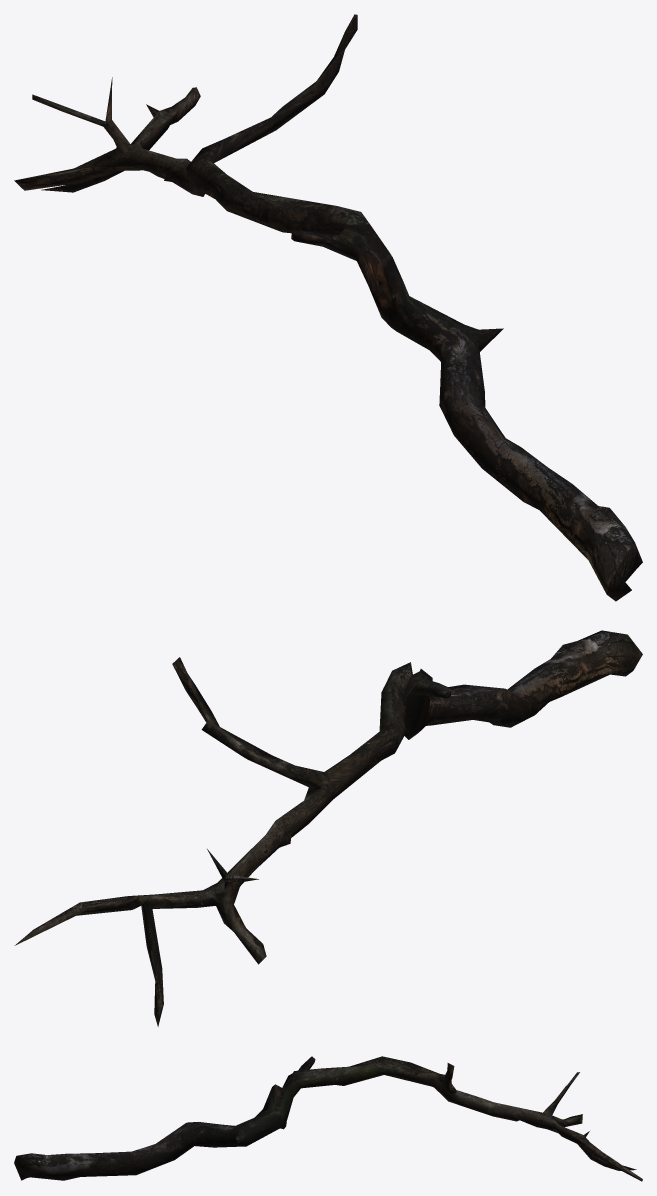
The model's file is pine_branch_a.glb.
3 renders of one model, top to bottom at view 1: azimuth 30°, elevation 25°; view 2: azimuth 150°, elevation 25°; view 3: azimuth 270°, elevation 25°, orthographic. The views are drawn at different scales.
Visible parts, largest first — view 1: pine_branch_a; view 2: pine_branch_a; view 3: pine_branch_a.
Boxes of the visible parts, x1,y1,x2,y2 form: pine_branch_a: (14,14,642,601); pine_branch_a: (14,630,642,1026); pine_branch_a: (14,1056,642,1181).
Size of the model in its own units: 0.6795 by 0.7507 by 2.82.
Materials: 1 (1 with a texture image).
